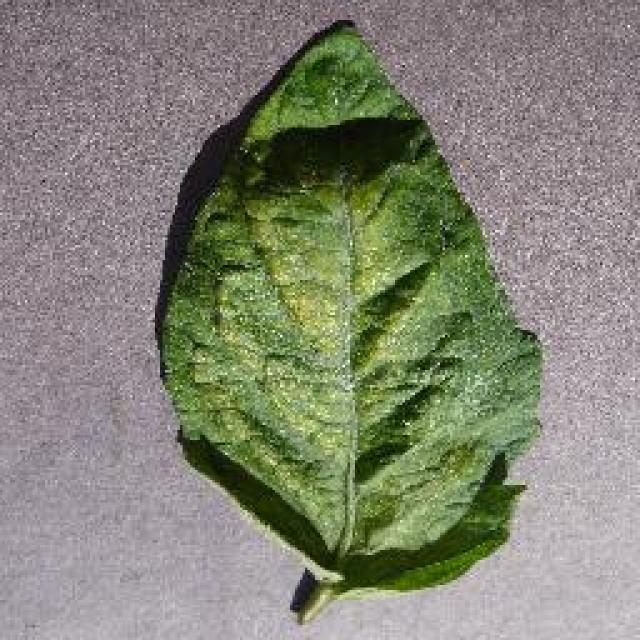Tomato spider mites leaf: (160, 22, 548, 590)
